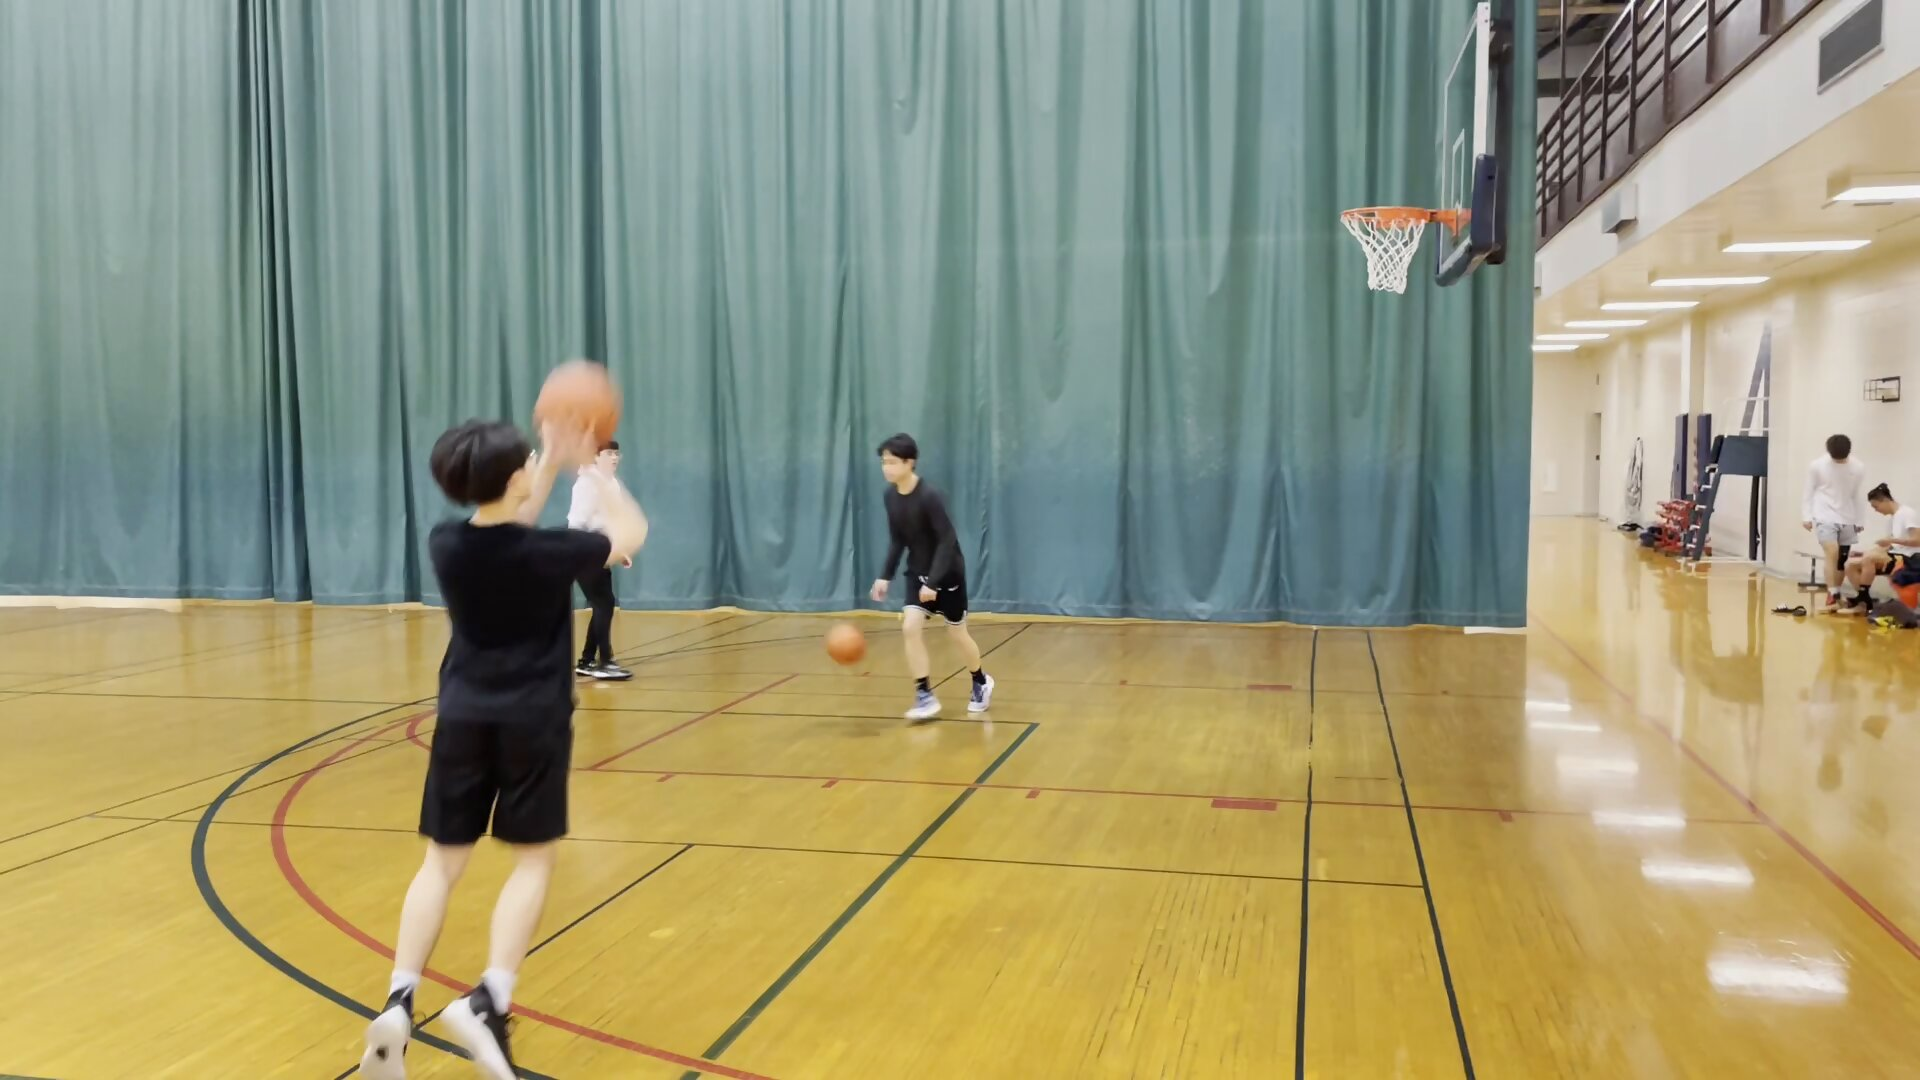ball: (526, 357, 626, 449), (820, 620, 870, 664)
net: (1359, 265, 1417, 300)
player: (368, 410, 653, 1080), (868, 432, 1002, 725), (567, 440, 643, 692), (1801, 434, 1863, 614), (1858, 484, 1920, 603)
rim: (1331, 198, 1443, 229)
